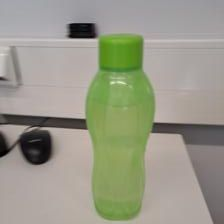bottle: (82, 32, 158, 224)
